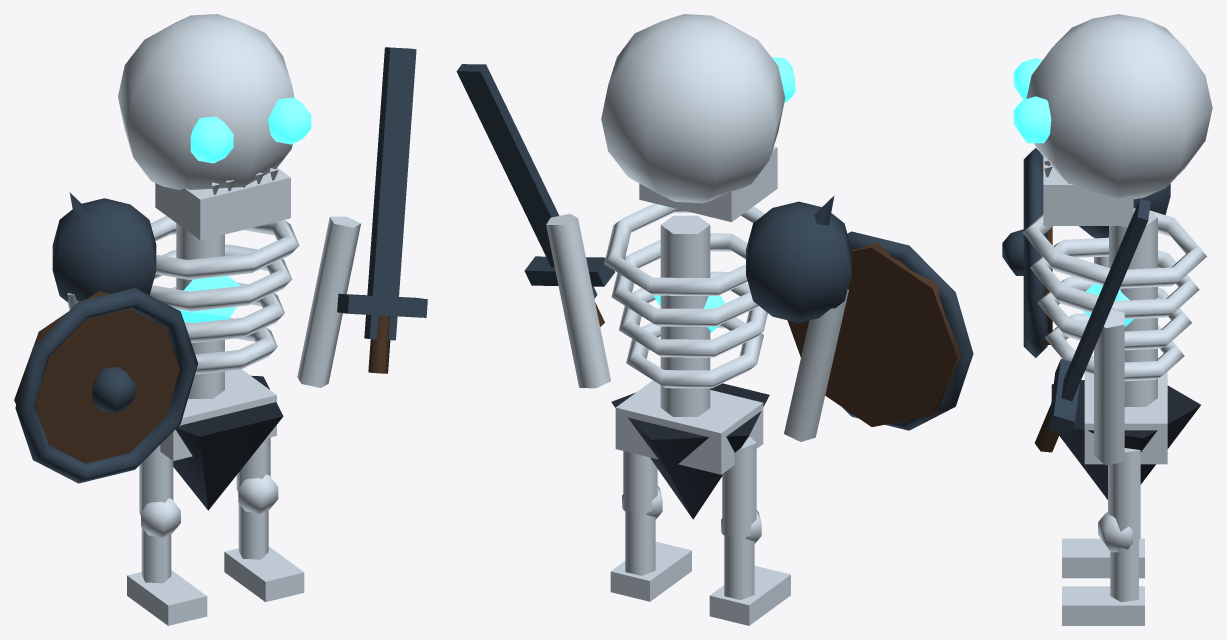
Rendered from skeleton.glb.
3 renders of one model, left to right at view 1: azimuth 30°, elevation 25°; view 2: azimuth 150°, elevation 25°; view 3: azimuth 270°, elevation 25°, orthographic.
Visible parts, largest first — view 1: enemy_skeleton; view 2: enemy_skeleton; view 3: enemy_skeleton.
Part boxes in pixels (x1=…): enemy_skeleton: x1=14, y1=14, x2=427, y2=625; enemy_skeleton: x1=456, y1=14, x2=973, y2=625; enemy_skeleton: x1=1002, y1=14, x2=1212, y2=625.
Size of the model in its own units: 1.39 by 1.67 by 0.5588.
